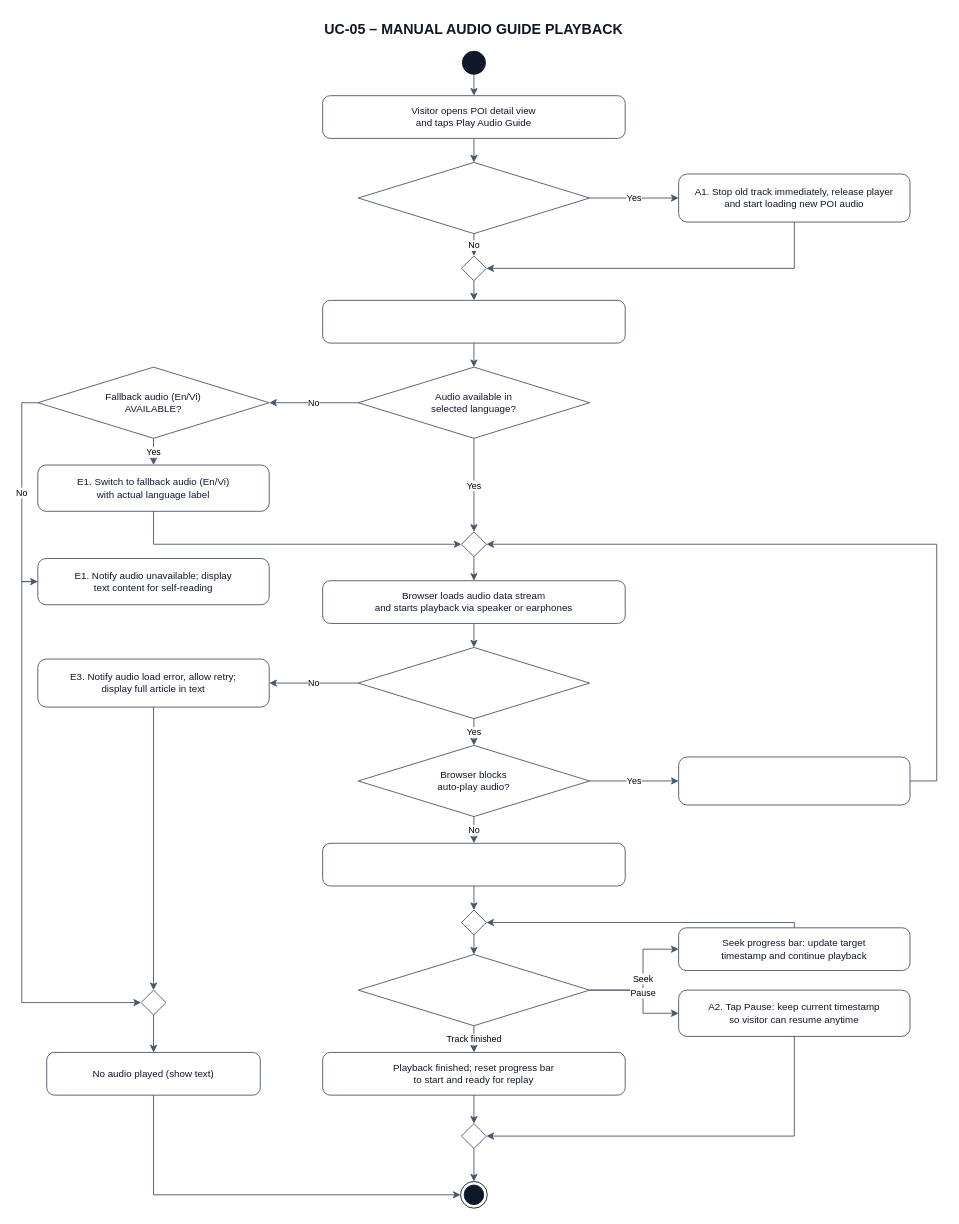
Image size: 959x1224. Some labels were removed from this diagram. The shapes that lost their labels are listed below. From the top down, each one's centre as x and y in pixels, then its label:
At (x=473, y=198): "Audio of another POI currently playing?".
At (x=473, y=321): "Check POI audio file path in current language content bundle".
At (x=473, y=683): "Audio stream loaded successfully?".
At (x=794, y=780): "E2. Prompt visitor to tap audio icon directly to allow playback".
At (x=473, y=864): "UI switches to Playing, showing time progress bar and Pause button".
At (x=473, y=990): "Visitor action during playback?".
